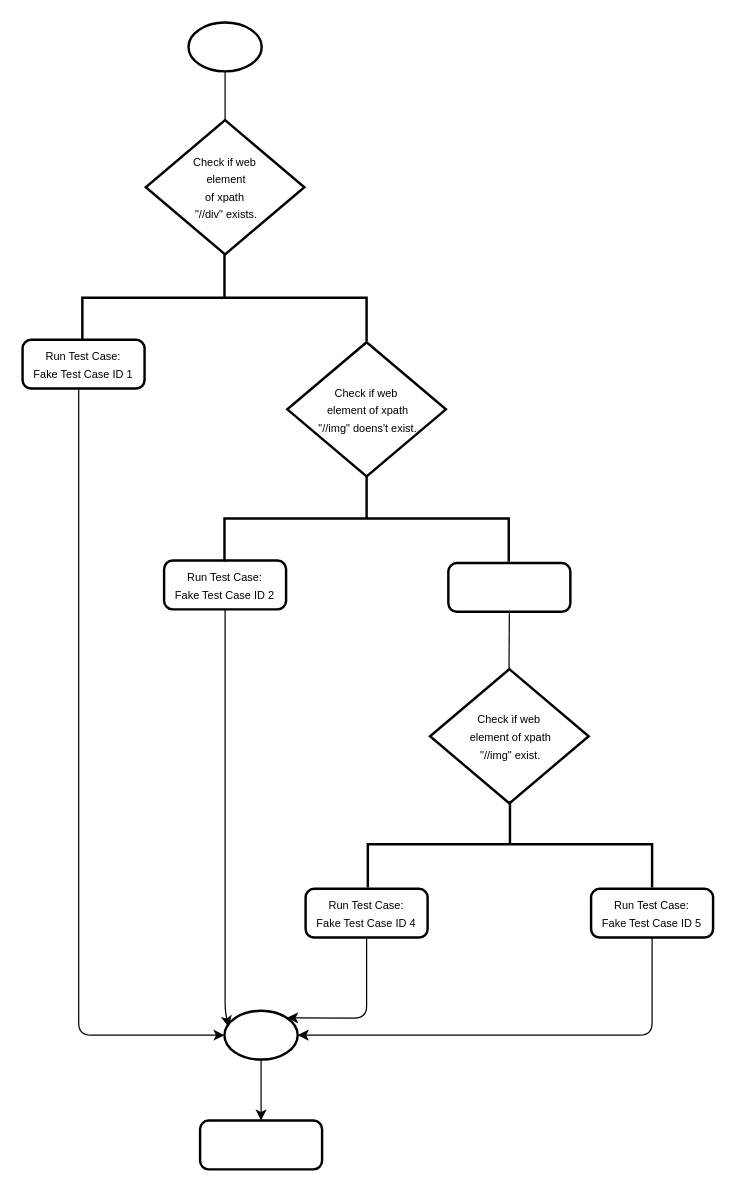
This 734x1191 diagram has some shape labels left out. The box of each missing label's shape, as (x1, y1, x2, y2) in pixels:
Run Test Case: Fake Test Case ID 3: (447, 561, 571, 612)
Run Test Case: Fake Test Case ID 6: (198, 1119, 323, 1170)
Start: (187, 21, 262, 72)
